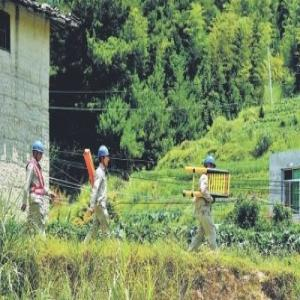blue: (98, 144, 111, 169), (33, 141, 46, 164), (205, 154, 217, 176)
